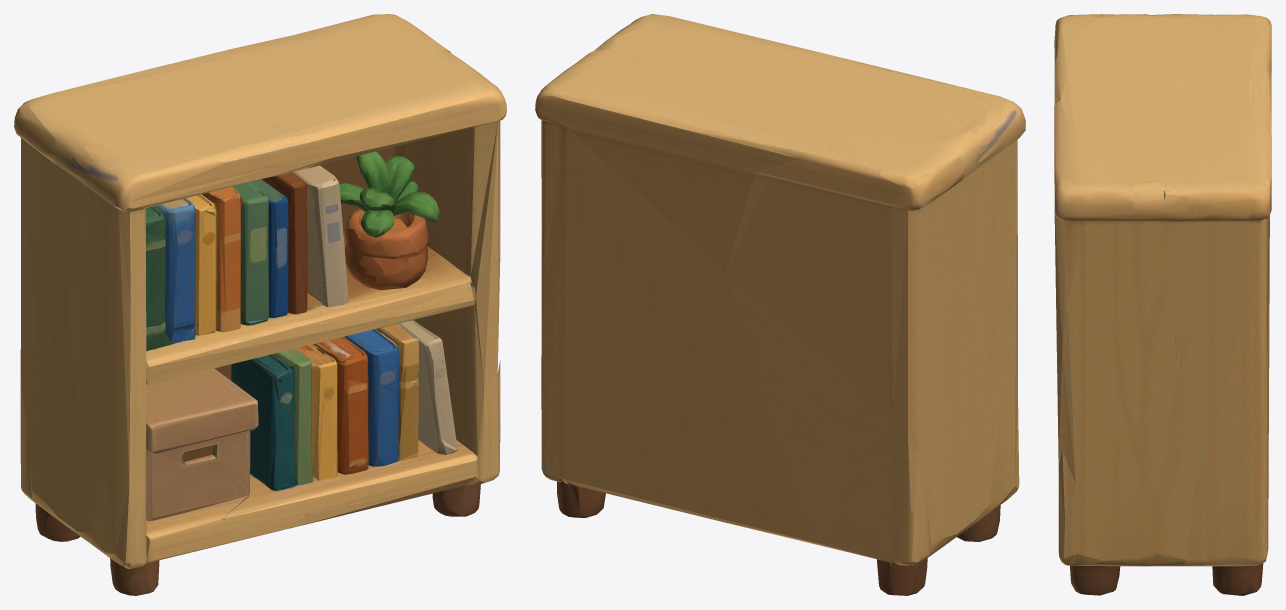
File: shelf_books.glb
The picture shows the model from 3 angles, left to right: view 1: azimuth 30°, elevation 25°; view 2: azimuth 150°, elevation 25°; view 3: azimuth 270°, elevation 25°; orthographic projection. The views are drawn at different scales.
Visible parts, largest first — view 1: mesh_node; view 2: mesh_node; view 3: mesh_node.
Boxes of the visible parts, box(x1,y1,x2,y2) form: mesh_node: box(14, 14, 506, 595); mesh_node: box(535, 14, 1025, 595); mesh_node: box(1054, 14, 1271, 595).
Size of the model in its own units: 0.5069 by 0.53 by 0.2527.
1 material, 1 textured.
